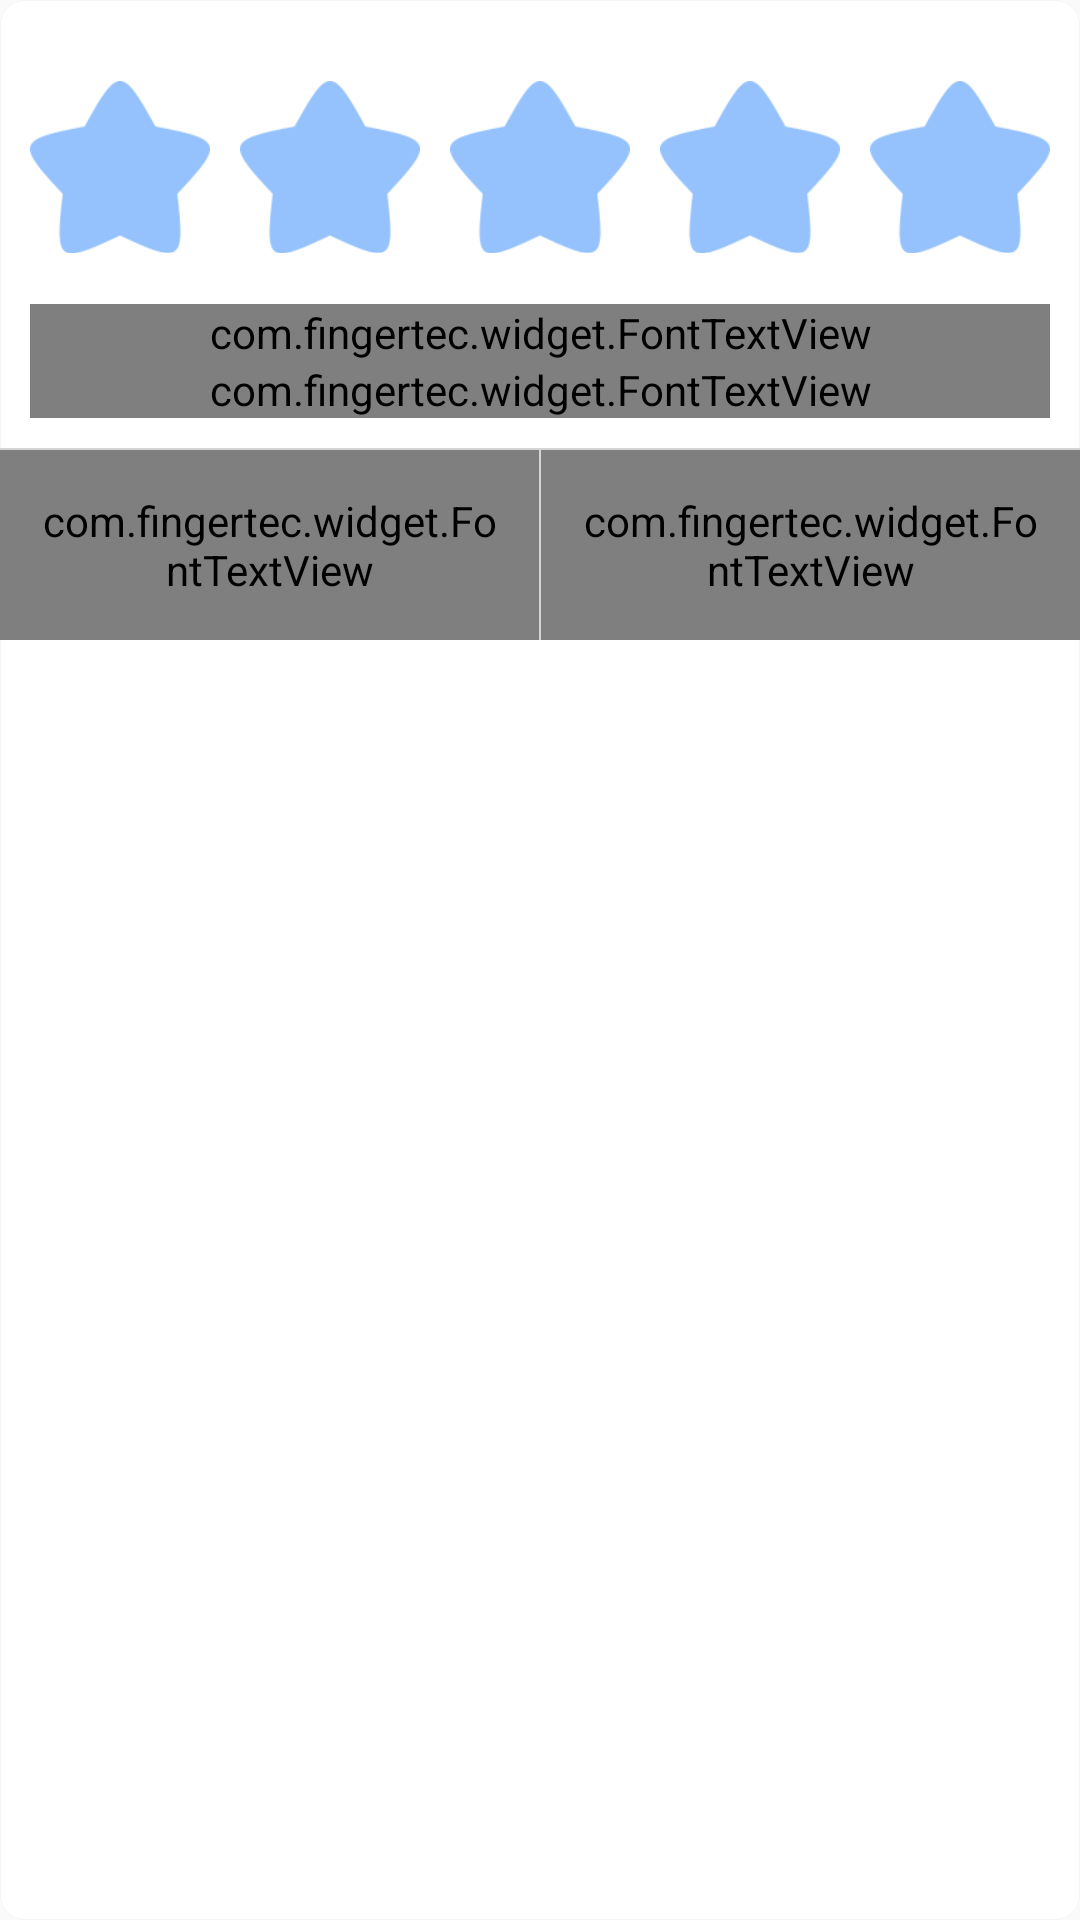

Where to tap for icons on this 1080px x 1920px app screen, as (x,y):
star: (120,167), (330,167), (540,167), (750,167), (960,167)
